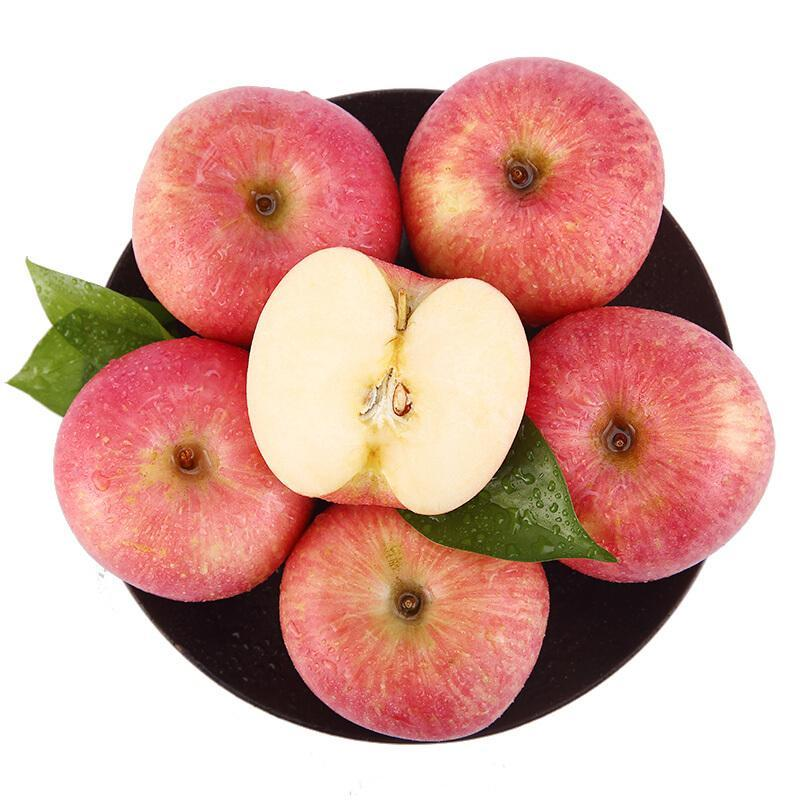apple: (129, 80, 407, 339), (396, 59, 667, 324), (52, 335, 313, 602), (278, 497, 547, 748), (519, 313, 770, 576)
